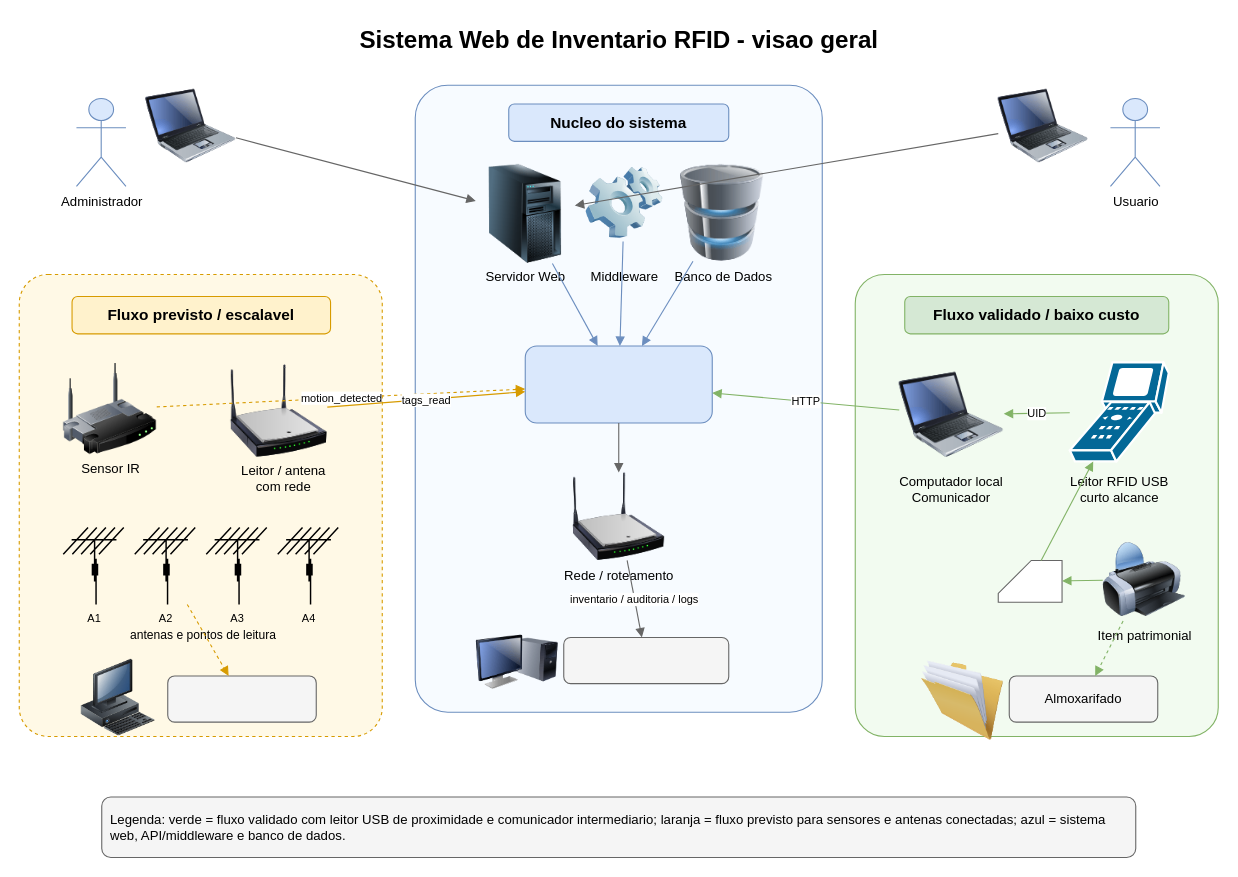
The diagram is 1238 pixels wide and 877 high, and some of its shapes have lost their labels. The box of each missing label's shape, as (x1, y1, x2, y2) in pixels:
API REST Middleware RFID: (524, 345, 712, 423)
Laboratorio: (167, 675, 316, 722)
Sala administrativa: (563, 636, 729, 684)
TAG: (997, 559, 1062, 602)
